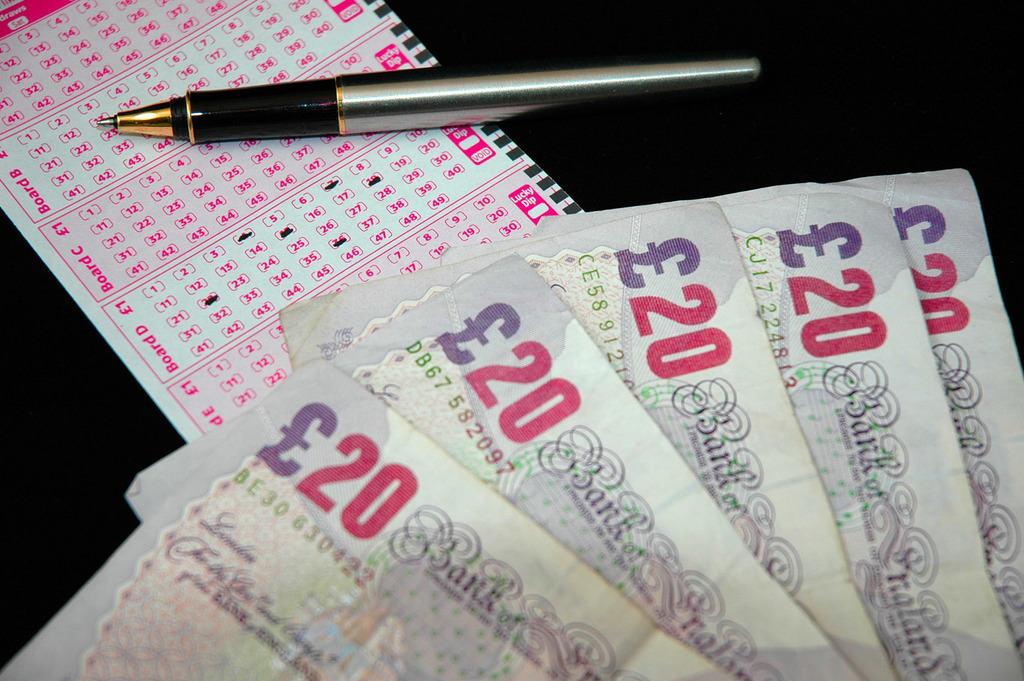Pen: (95, 45, 769, 118)
